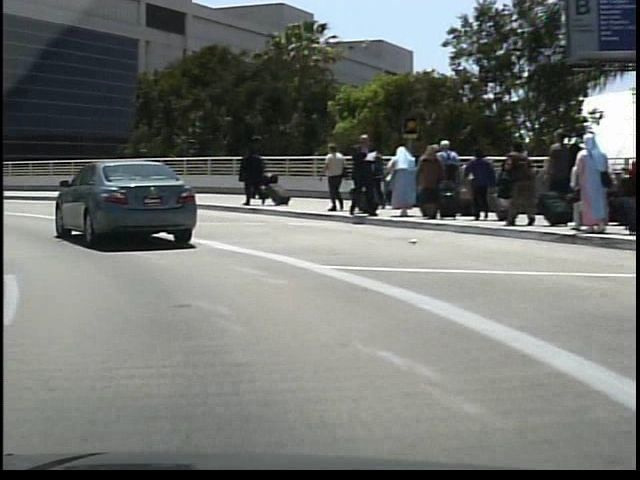person: (343, 132, 376, 220), (317, 140, 345, 216), (233, 144, 264, 208), (245, 153, 265, 202)
